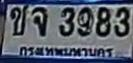3: (58, 6, 74, 35), (114, 6, 129, 36)
8: (95, 6, 110, 36)
9: (77, 6, 92, 35)
A08: (31, 6, 47, 35)
A10: (10, 4, 28, 35)
BKK: (17, 44, 115, 59)
